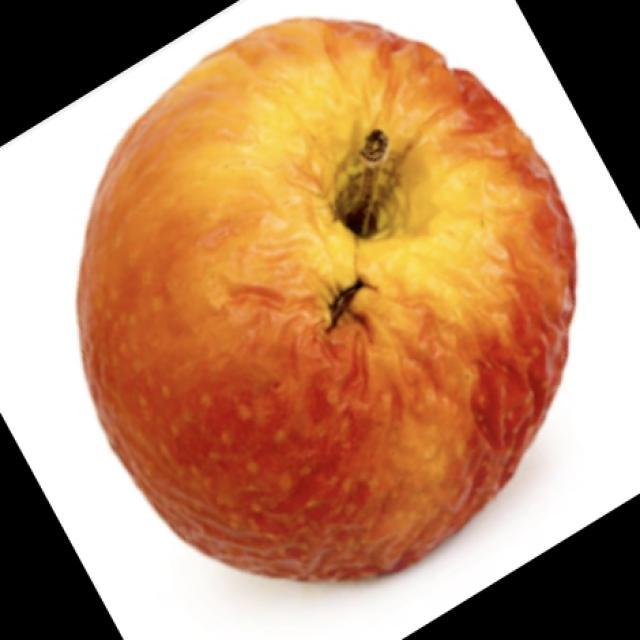Rotten: (95, 32, 588, 575)
